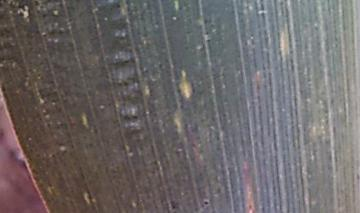tarspot: (201, 198, 211, 208)
